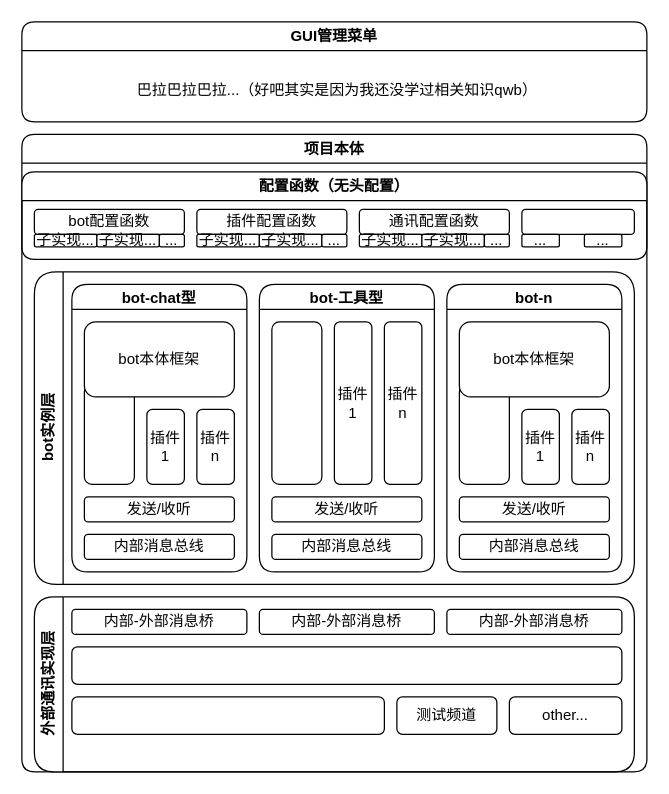
This 669x794 diagram has some shape labels left out. The centre of each missing label's shape, as x and y in pixels:
"bot 本体 框架" goes at (296,402).
"NapcatQQ" goes at (227,715).
"其他..." goes at (577,221).
"消息总线" goes at (346,665).
